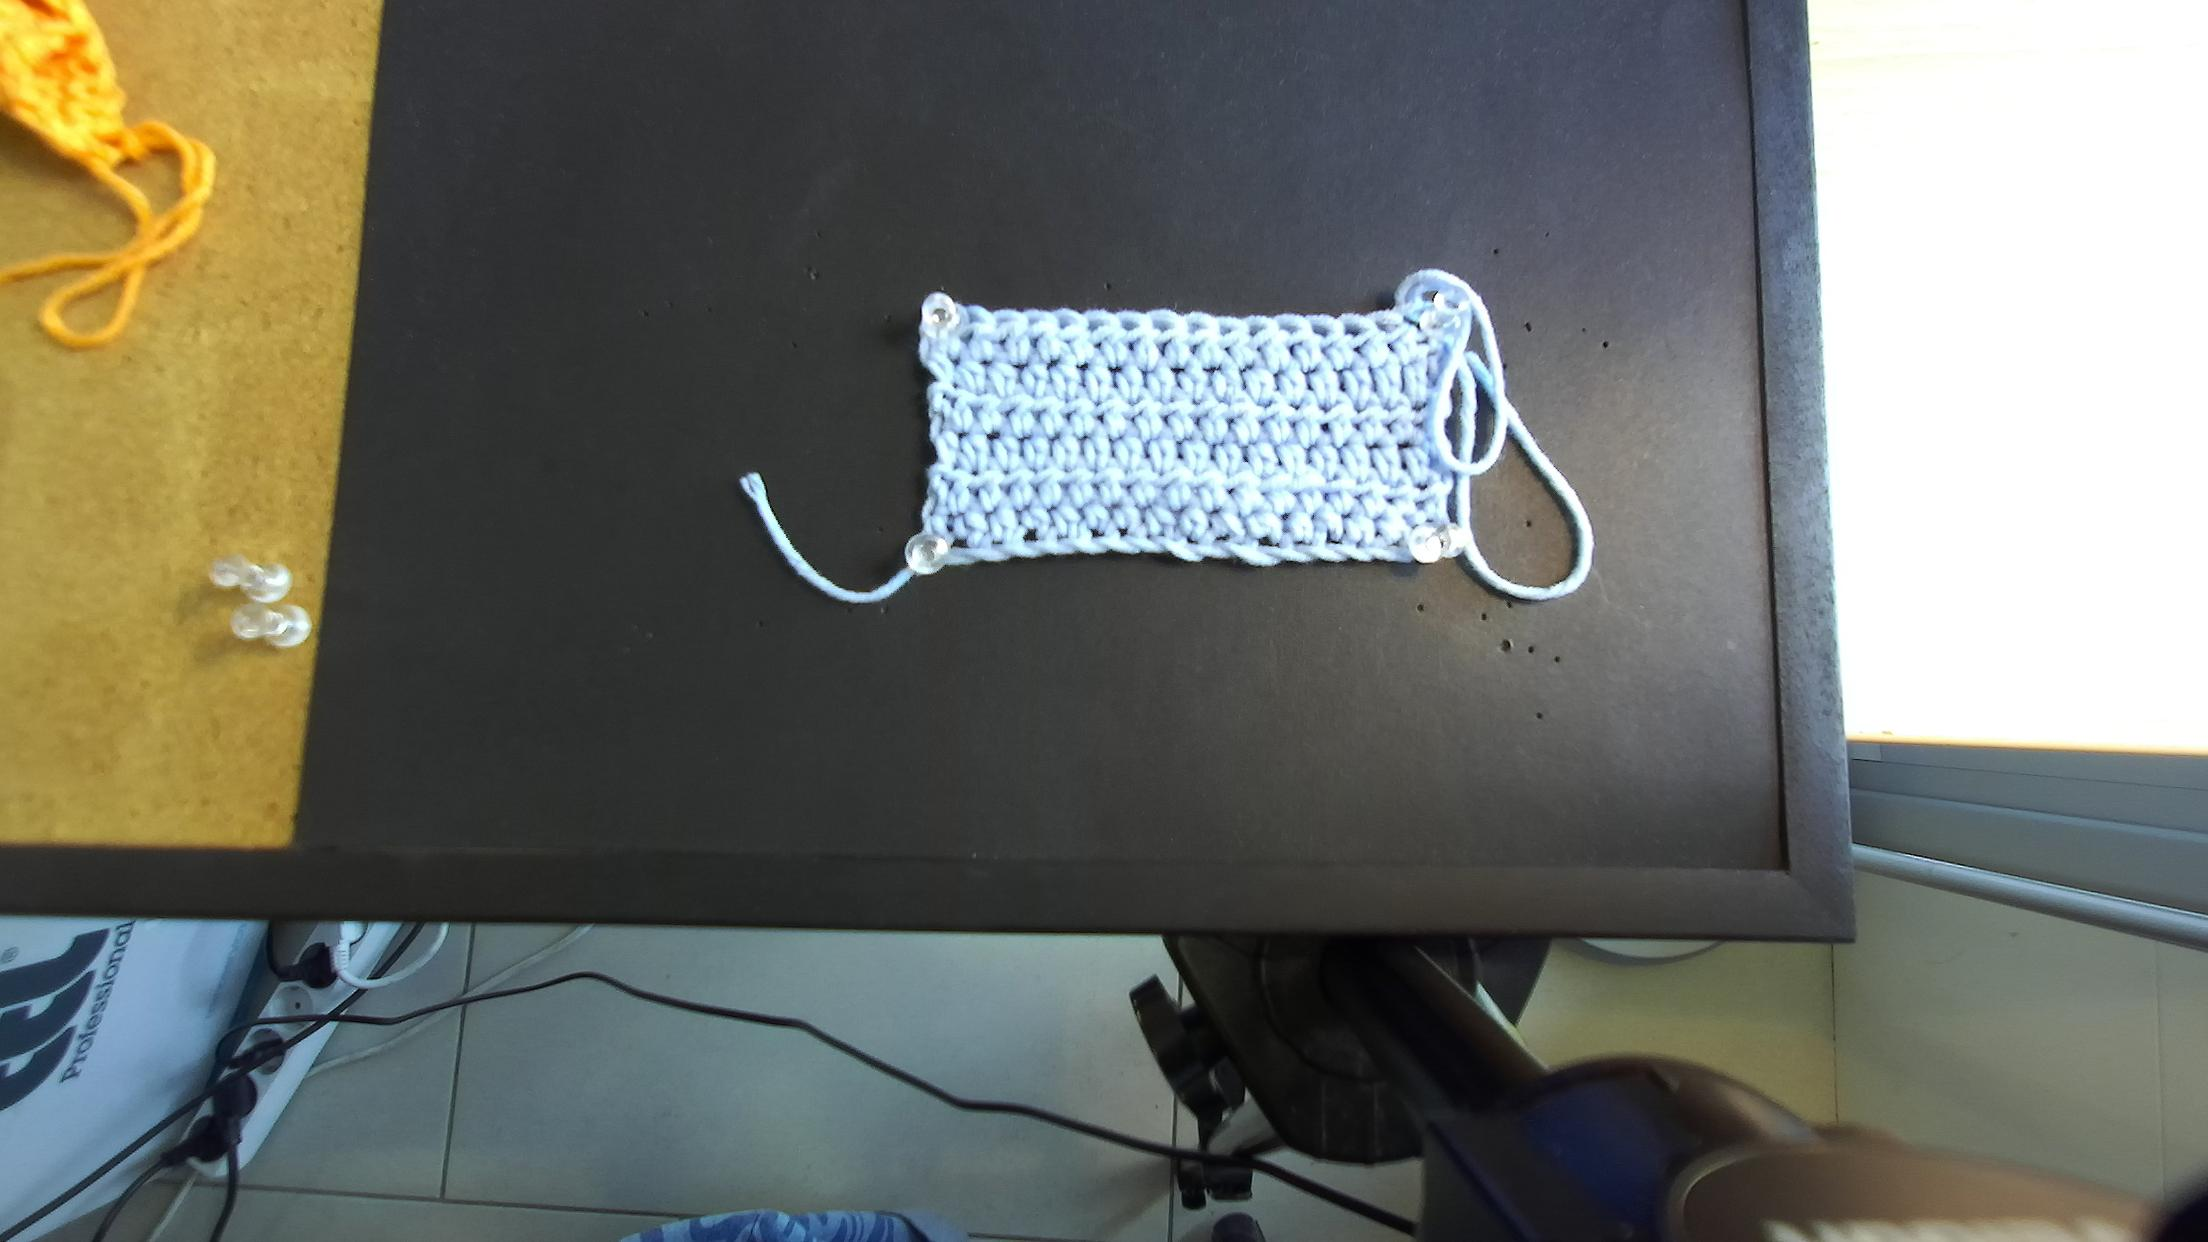hole: (1121, 317, 1140, 332), (1344, 323, 1363, 338), (1277, 323, 1301, 335), (1403, 315, 1421, 331), (1312, 325, 1331, 338), (995, 317, 1016, 329), (1087, 320, 1109, 332), (1153, 320, 1174, 332), (1187, 321, 1209, 334), (1248, 323, 1266, 337), (1372, 321, 1391, 335), (1057, 318, 1077, 329), (1218, 323, 1234, 335), (969, 314, 984, 325), (1028, 317, 1042, 326)
swatch: (902, 271, 1476, 576)
